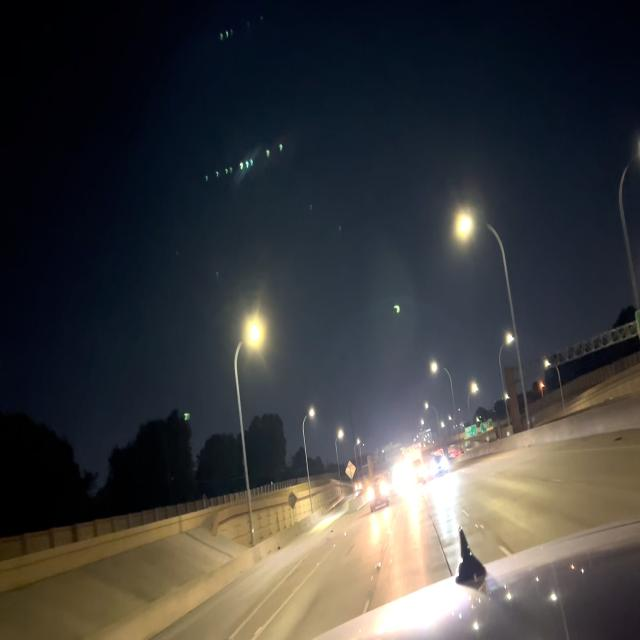back-of-sign: (345, 458, 356, 484)
